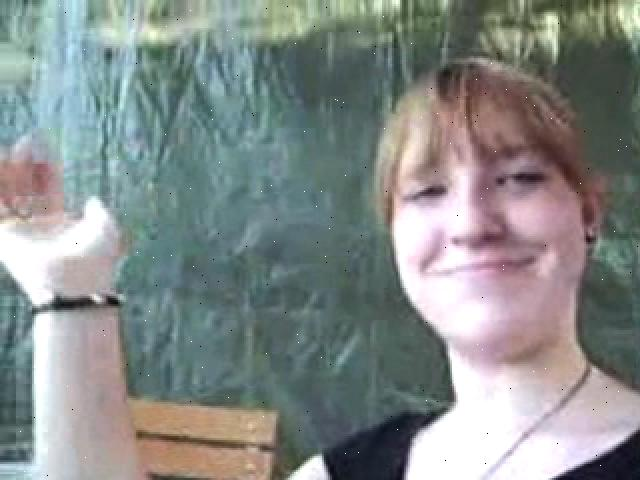T: (6, 54, 634, 467)
